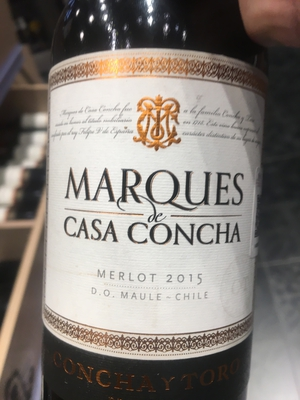marques de casa concha merlot: (42, 15, 269, 400)
